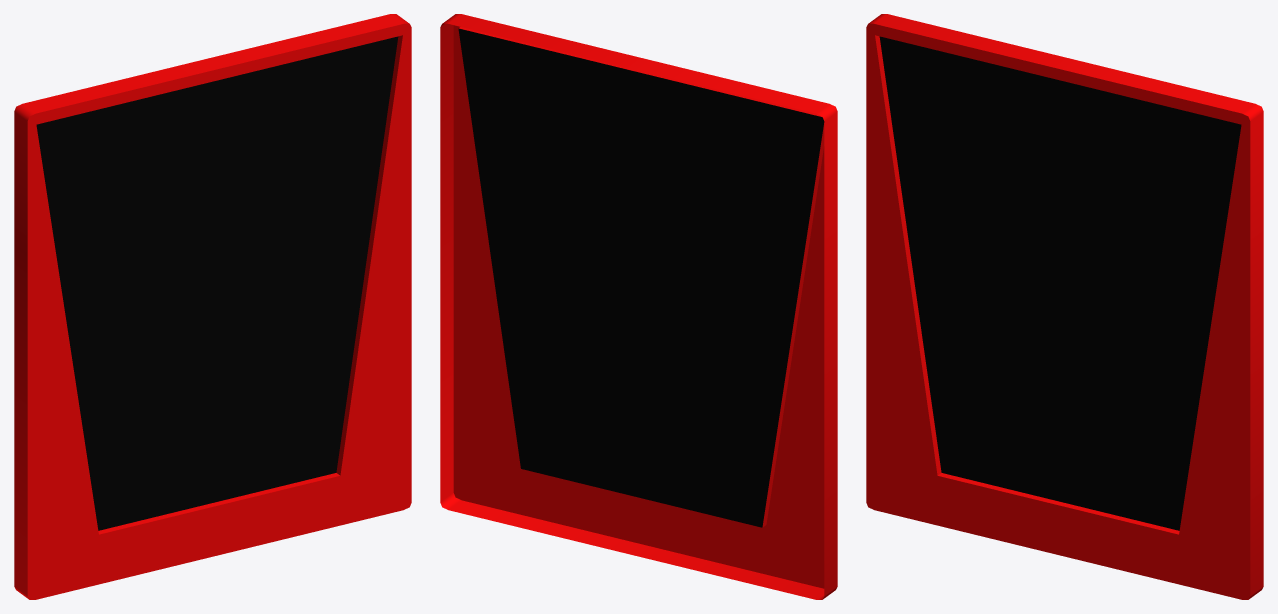
File: tablett.fbx
The picture shows the model from 3 angles, left to right: view 1: azimuth 30°, elevation 25°; view 2: azimuth 150°, elevation 25°; view 3: azimuth 330°, elevation 25°; orthographic projection.
Parts seen in each view (by area): view 1: LP; view 2: LP; view 3: LP.
Boxes of the visible parts, x1,y1,x2,y2 form: LP: (14, 14, 411, 599); LP: (440, 14, 837, 599); LP: (866, 14, 1263, 599).
Bounding box in the file's own units: 6.8 × 8.22 × 0.4108.
